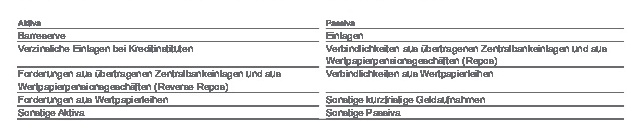table: (0, 0, 637, 132)
